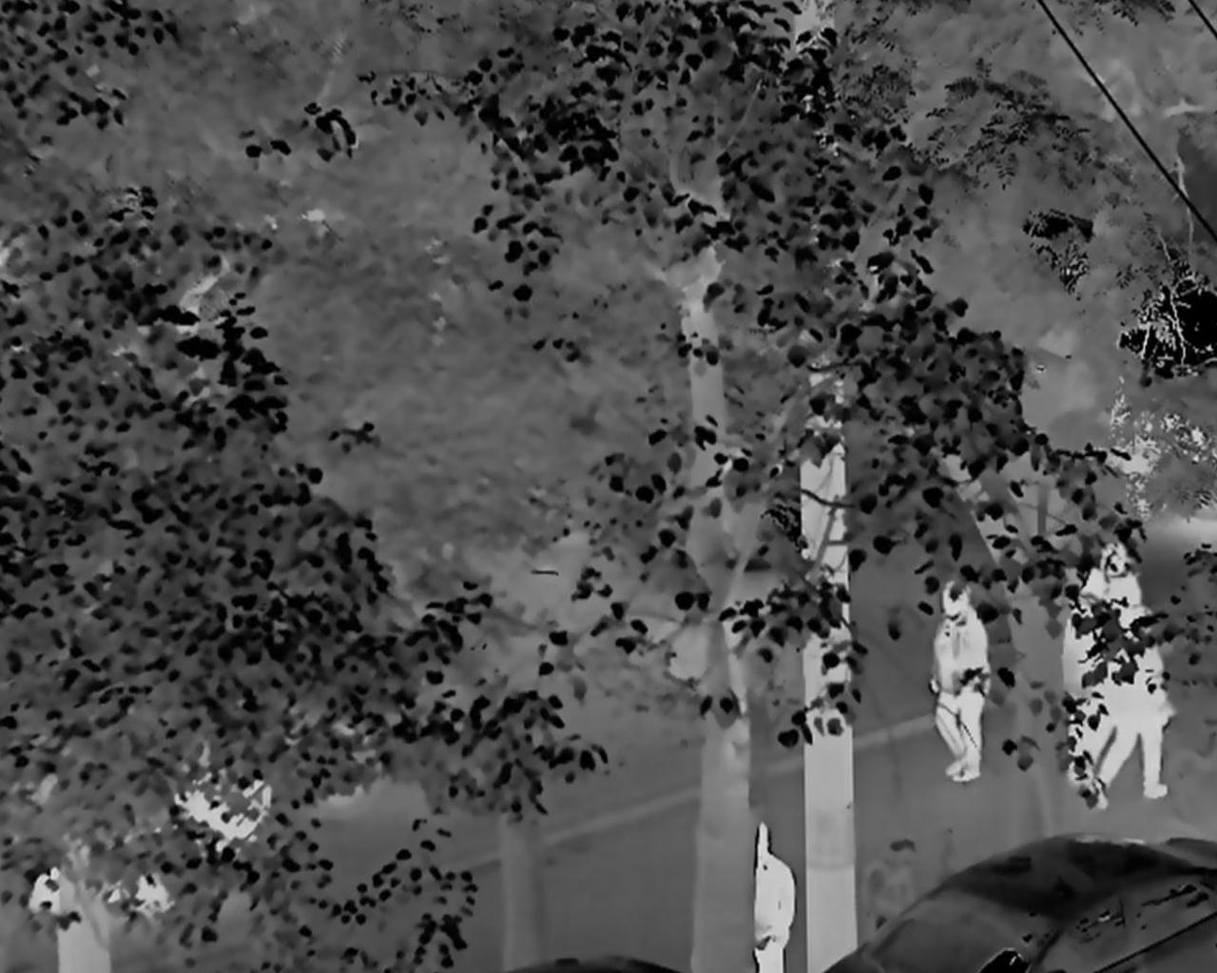person: (1110, 601, 1169, 815), (1061, 563, 1118, 784), (933, 587, 988, 778), (751, 825, 794, 973)
